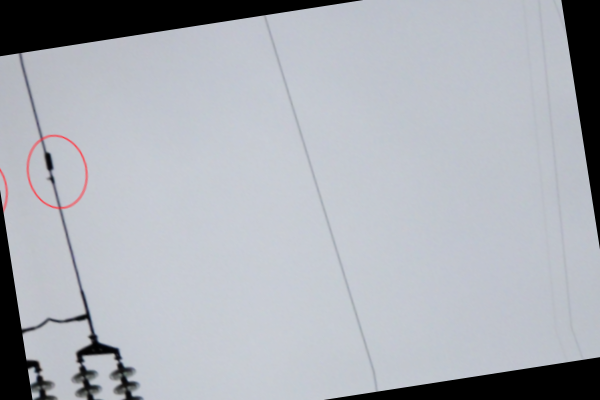damper_defect: (41, 151, 57, 187)
